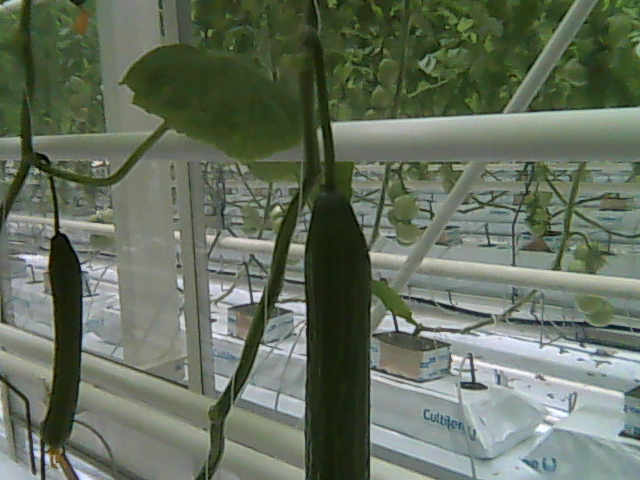concombre: (302, 181, 377, 480), (35, 225, 85, 470)
